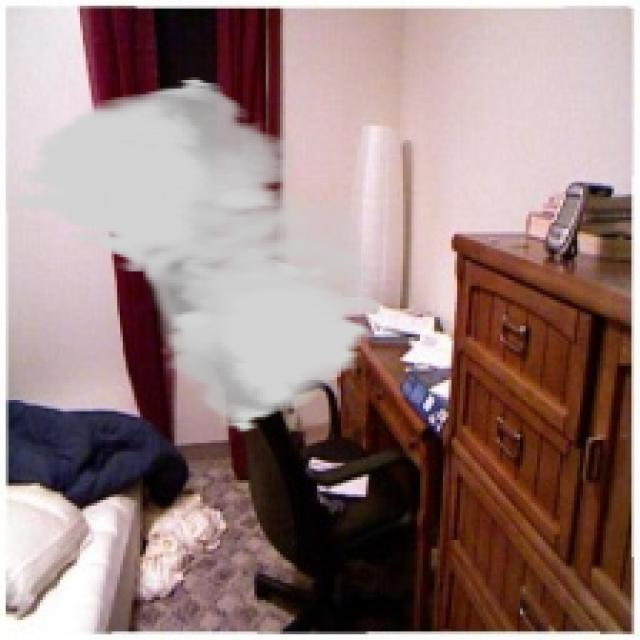Smoke: (11, 77, 383, 434)
